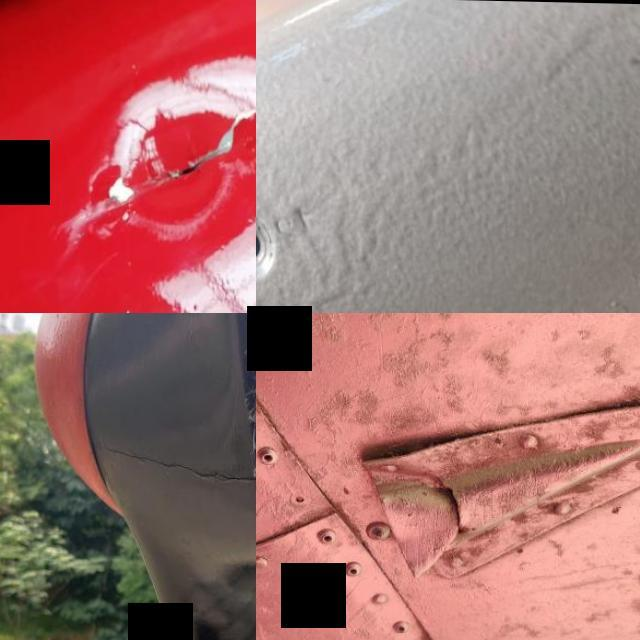Crack: (5, 49, 256, 281), (93, 426, 256, 501), (422, 462, 482, 546)
Missing_Fastener: (256, 153, 325, 313)
